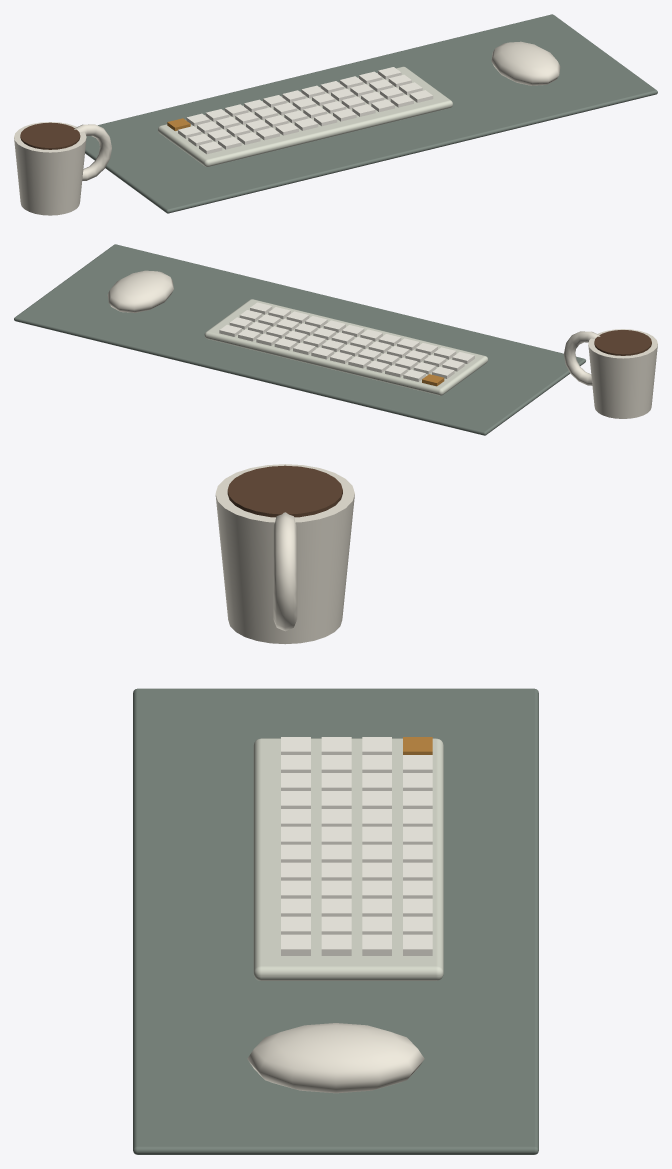
The model's file is accessories.glb.
3 renders of one model, top to bottom at view 1: azimuth 30°, elevation 25°; view 2: azimuth 150°, elevation 25°; view 3: azimuth 270°, elevation 25°, orthographic. The views are drawn at different scales.
Size of the model in its own units: 2.1 by 0.245 by 0.64.
